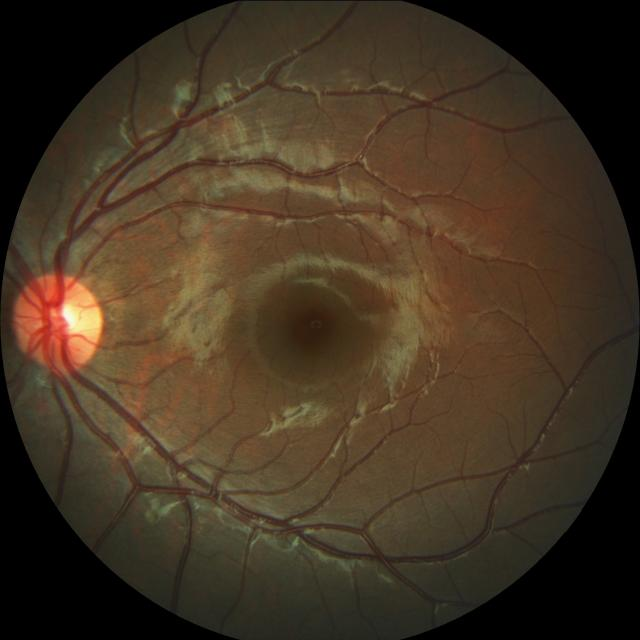OC: (48, 302, 82, 334)
OD: (13, 271, 101, 370)
